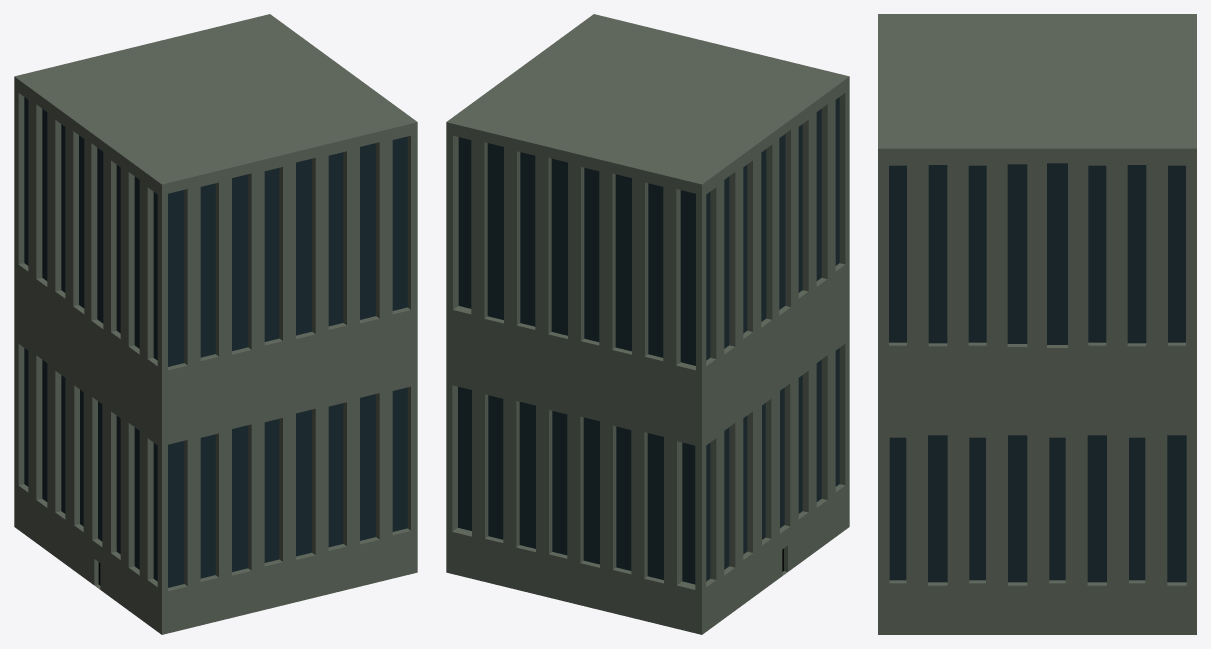
File: Predio3.fbx
3 renders of one model, left to right at view 1: azimuth 30°, elevation 25°; view 2: azimuth 150°, elevation 25°; view 3: azimuth 270°, elevation 25°, orthographic. The views are drawn at different scales.
Parts seen in each view (by area): view 1: Cube; view 2: Cube; view 3: Cube.
Part boxes in pixels (x1,y1,x2,y2): Cube: [14, 14, 417, 634]; Cube: [446, 14, 849, 634]; Cube: [878, 14, 1196, 634].
Size of the model in its own units: 200 by 336 by 200.
